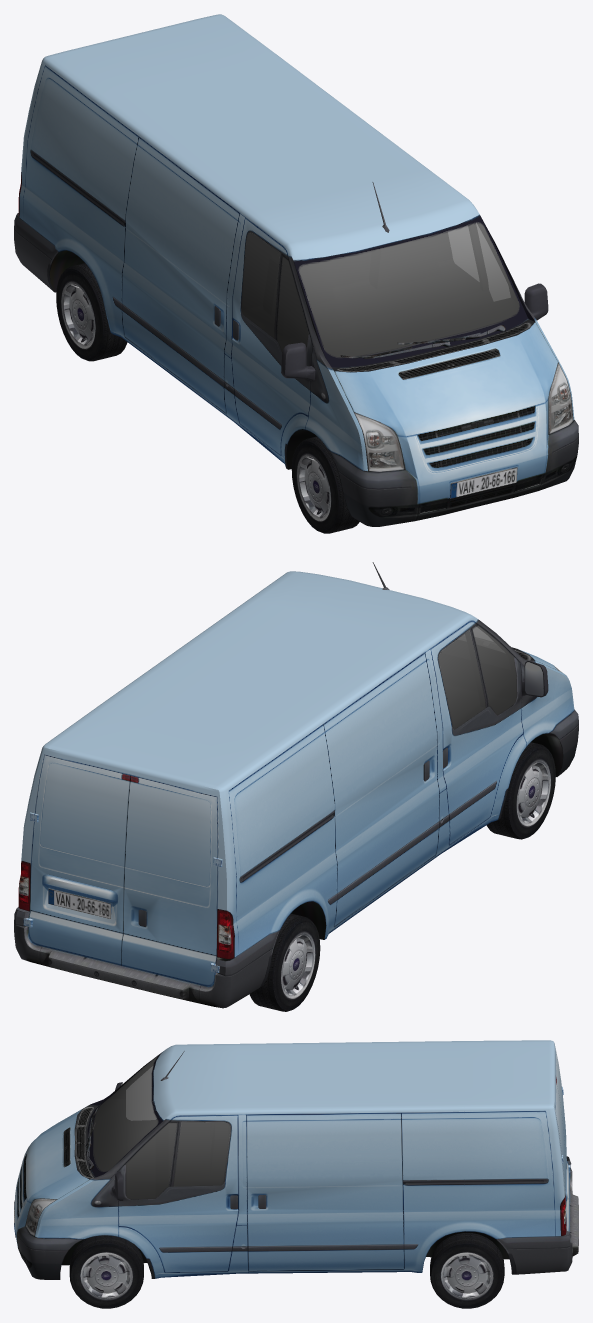
File: van_blue.glb
The picture shows the model from 3 angles, top to bottom: view 1: azimuth 30°, elevation 25°; view 2: azimuth 150°, elevation 25°; view 3: azimuth 270°, elevation 25°; orthographic projection. The views are drawn at different scales.
Visible parts, largest first — view 1: van03_, van03_gla_, van03_wheel04_, van03_wheel02_; view 2: van03_, van03_gla_, van03_wheel04_, van03_wheel02_; view 3: van03_, van03_gla_, van03_wheel03_, van03_wheel01_.
Part boxes in pixels (x1,y1,x2,y2): van03_: (14,14,578,526); van03_gla_: (241,223,519,357); van03_wheel04_: (56,263,127,361); van03_wheel02_: (291,436,359,533); van03_: (14,562,578,1008); van03_gla_: (438,625,517,729); van03_wheel04_: (249,913,320,1011); van03_wheel02_: (486,742,555,839); van03_: (14,1040,578,1279); van03_gla_: (93,1056,230,1199); van03_wheel03_: (430,1233,504,1308); van03_wheel01_: (69,1235,143,1308).
Bounding box in the file's own units: 2.19 × 2.25 × 5.29.
Materials: 3 (3 with a texture image).
